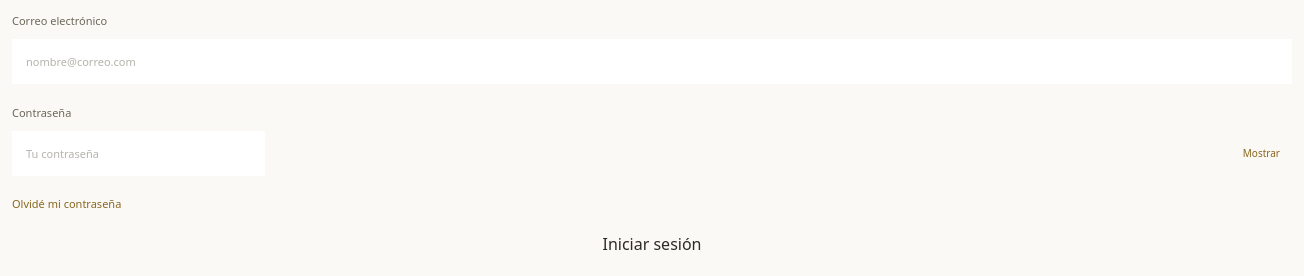
Test case: AuthForm › avisa cuando el servidor no pudo mandar el correo
Type "duenio@example.com" into the field labelled "Correo electrónico" at (652, 61), box [12, 39, 1292, 84]
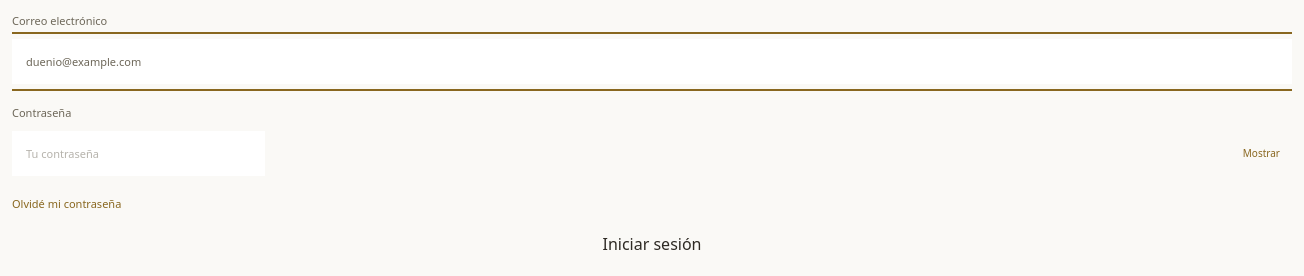
Type "correcta" into the password field with placeholder "Tu contraseña" at (138, 154), box [12, 131, 265, 176]
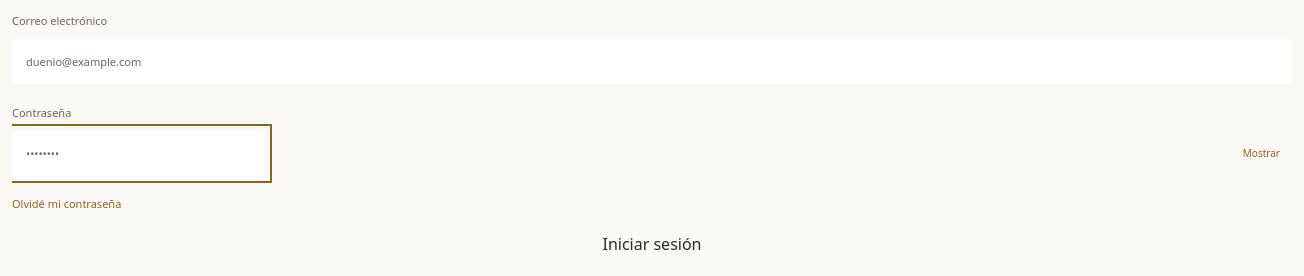
Click the button "Iniciar sesión" at (652, 245), box [12, 232, 1292, 258]
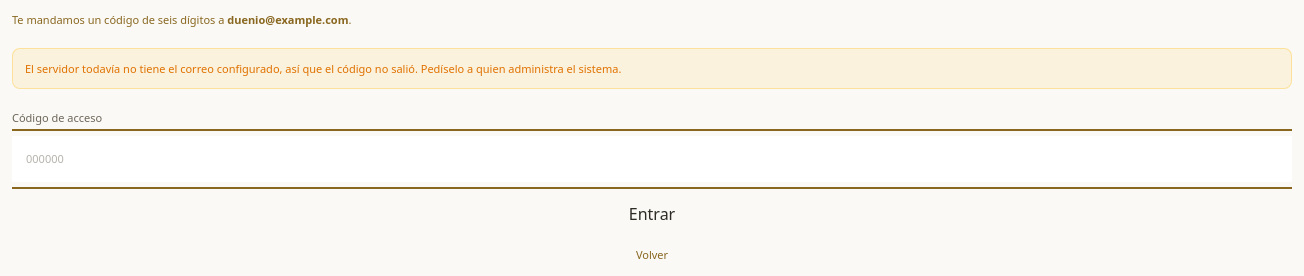
Now the message shows "el código no salió", box [25, 61, 622, 76]
